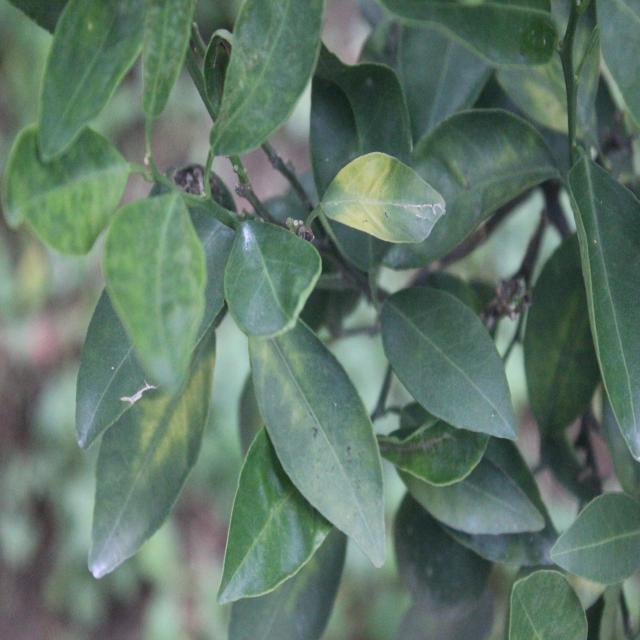blackspot: (263, 340, 399, 540), (327, 172, 430, 230)
